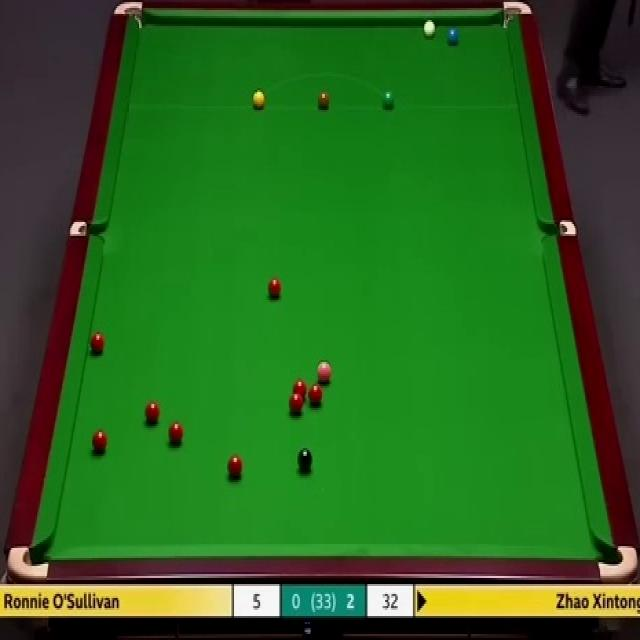pocket: (593, 540, 637, 578), (6, 545, 51, 580), (499, 1, 534, 32), (114, 3, 145, 28), (540, 218, 575, 238), (71, 218, 106, 237)
